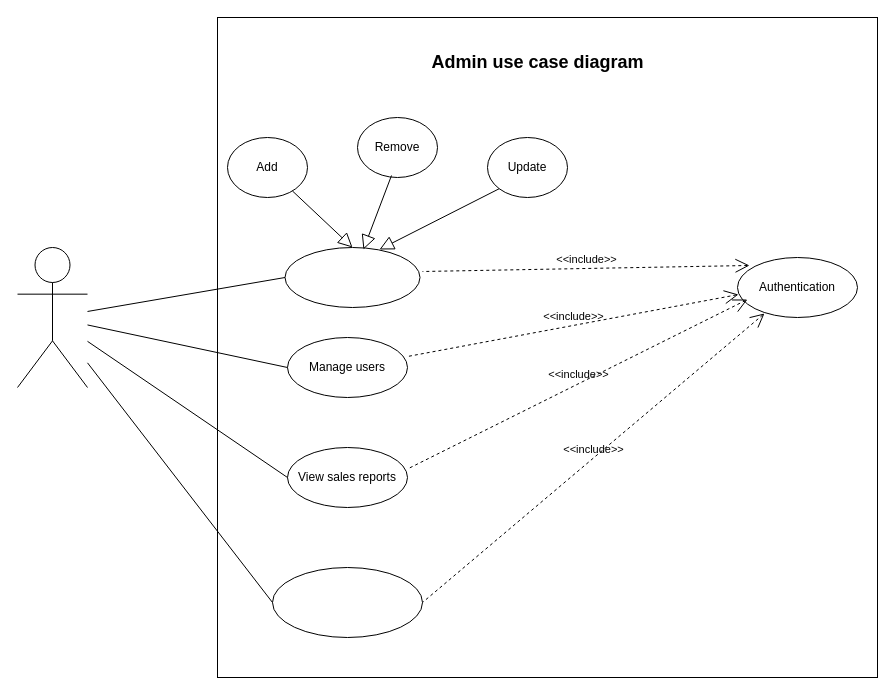
Image size: 895x695. Some labels were removed from this diagram. Each missing label, with the box of its shape:
Admin: (16, 246, 88, 388)
Manage cars listing: (284, 246, 420, 308)
Oversee payment Processing: (272, 566, 422, 638)
